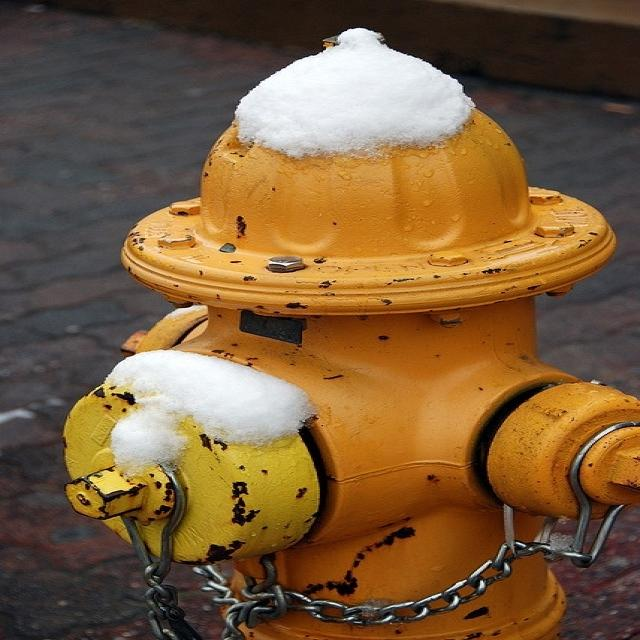fire_hydrant: (25, 51, 640, 639)
